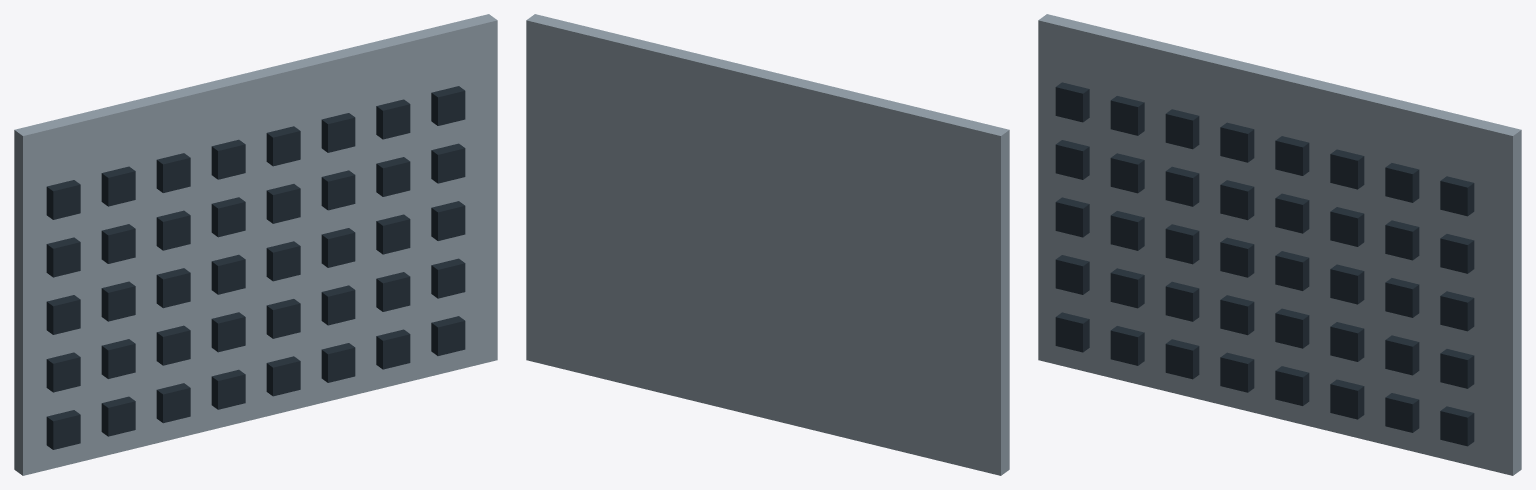
3 renders of one model, left to right at view 1: azimuth 30°, elevation 25°; view 2: azimuth 150°, elevation 25°; view 3: azimuth 330°, elevation 25°, orthographic.
Visible parts, largest first — view 1: 均风板; view 2: 均风板; view 3: 均风板.
Part boxes in pixels (bbox=[...]): 均风板: bbox=[14, 14, 497, 475]; 均风板: bbox=[526, 14, 1009, 475]; 均风板: bbox=[1038, 14, 1521, 475].
Size of the model in its own units: 0.95 by 0.65 by 0.0525.
